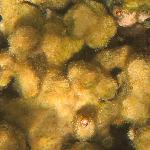dead: (1, 2, 148, 148)
